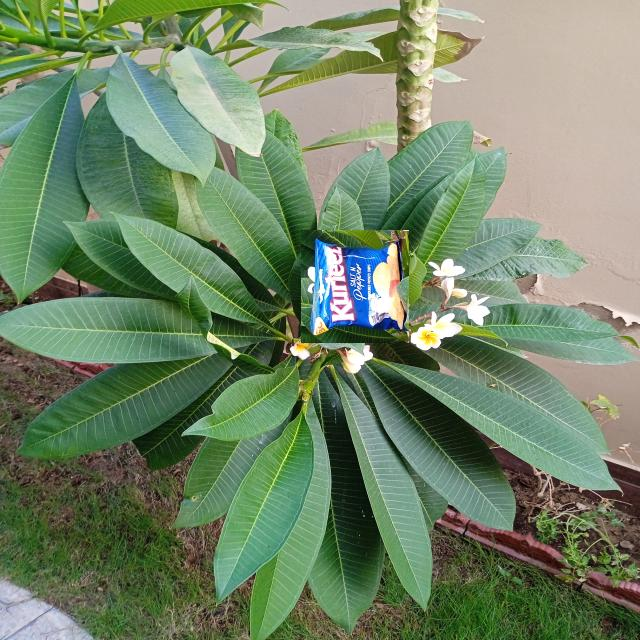Plastic: (299, 231, 411, 341)
